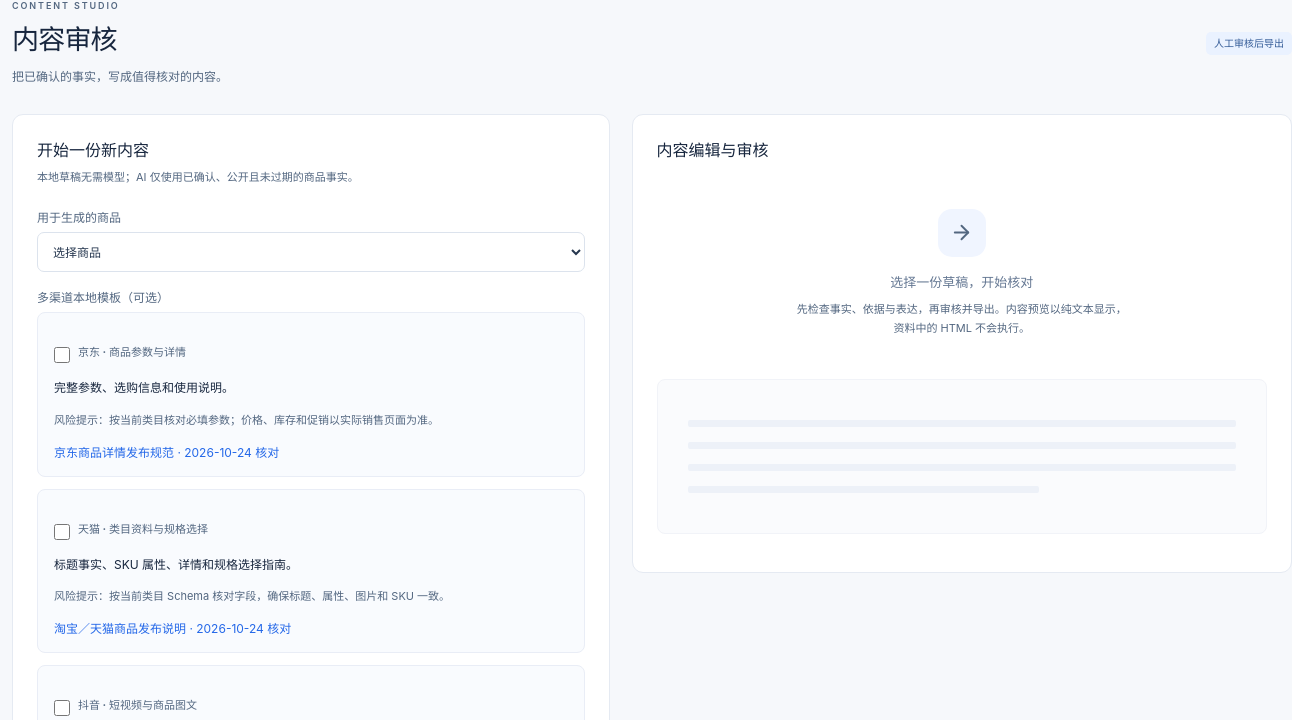
Scenario: native workflow UI › requires AI generation consent and sends identifiers rather than private text
The image size is (1292, 720).
Select "晴山水杯" in the dropdown labelled "用于生成的商品" at {"x": 311, "y": 252}, box [37,232,584,272]
(page scrolled)
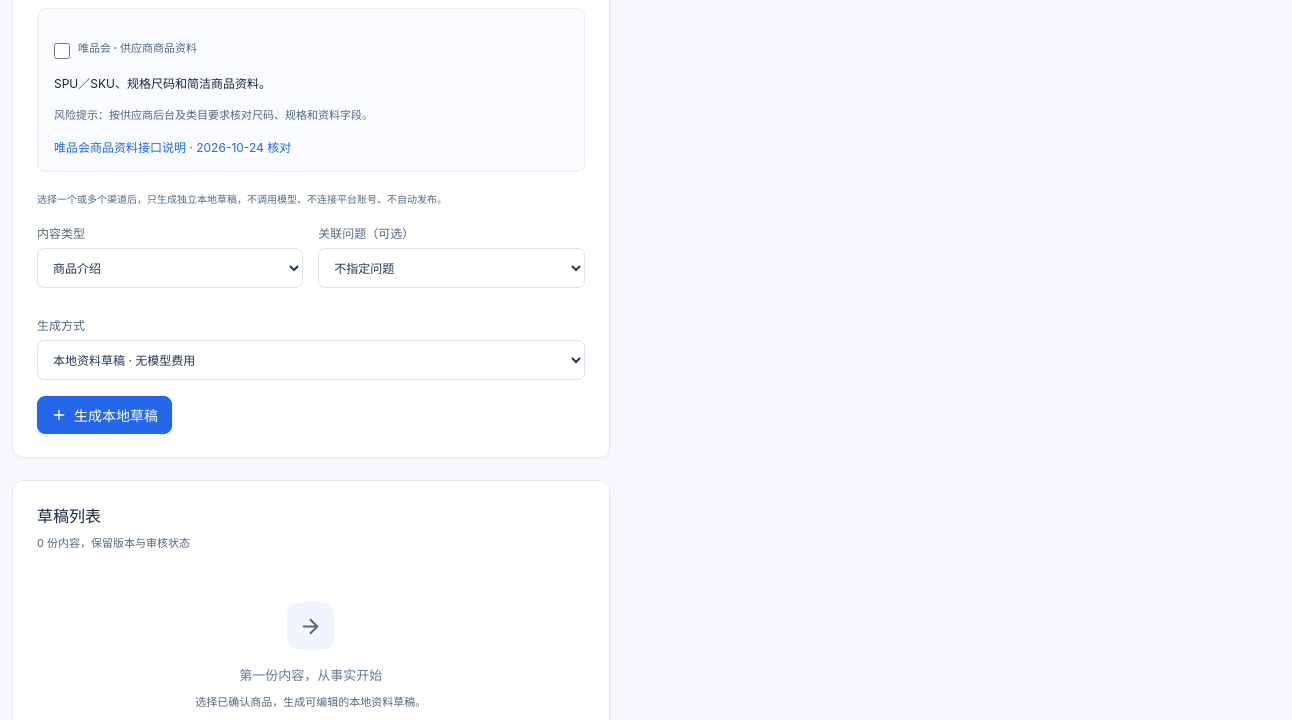
Select "AI 辅助草稿 · 使用配置模型" in the dropdown labelled "生成方式" at {"x": 311, "y": 360}, box [37,340,584,380]
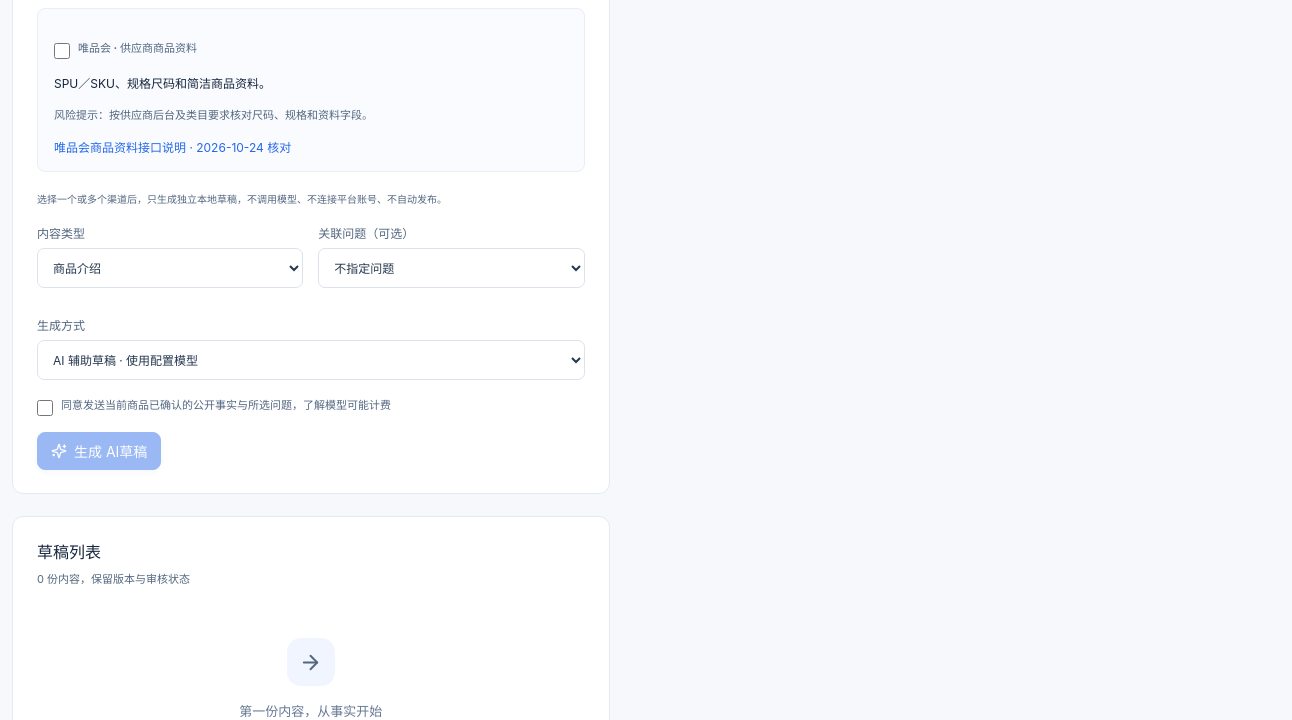
Expected: the button "生成 AI草稿" is disabled, [37,432,161,470]
Click the checkbox labelled "同意发送当前商品已确认的公开事实与所选问题，了解模型可能计费" at {"x": 45, "y": 408}, box [37,400,53,416]
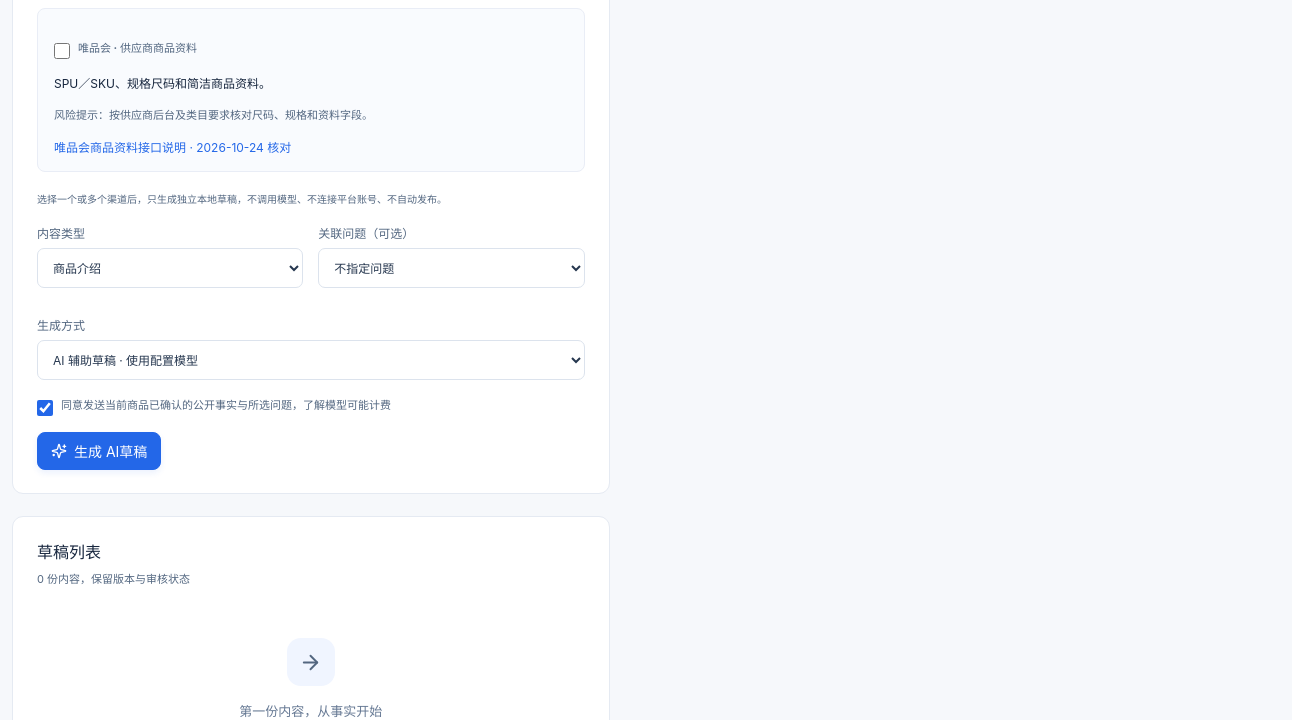
Click the button "生成 AI草稿" at {"x": 99, "y": 451}, box [37,432,161,470]
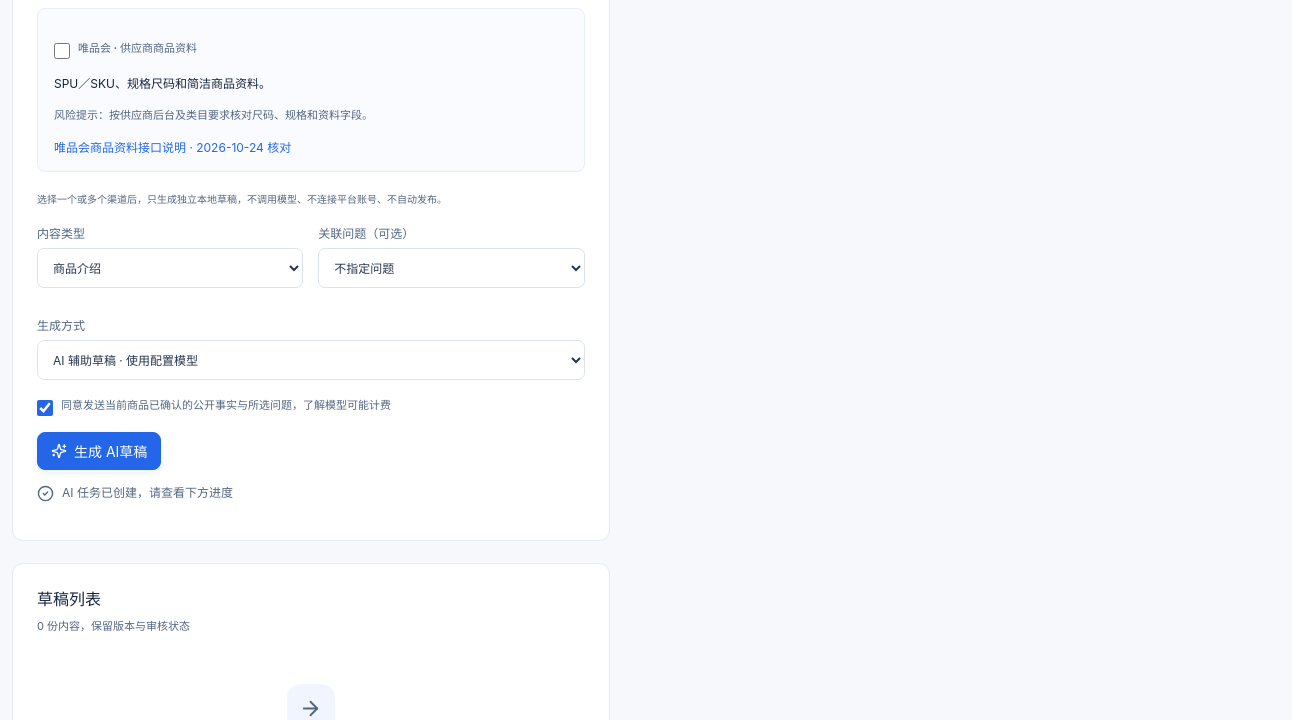
Expected: the text "AI 任务已创建，请查看下方进度" is shown, [37,485,233,502]
